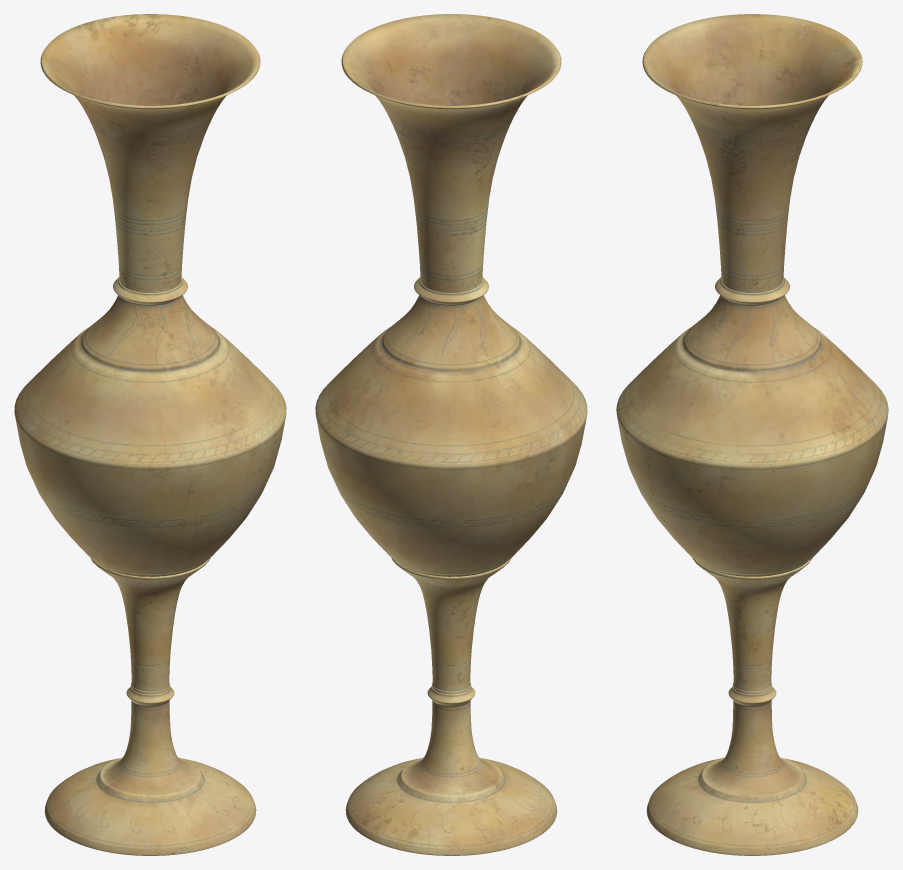
File: brass_vase_01.glb
The picture shows the model from 3 angles, left to right: view 1: azimuth 30°, elevation 25°; view 2: azimuth 150°, elevation 25°; view 3: azimuth 270°, elevation 25°; orthographic projection.
Visible parts, largest first — view 1: brass_vase_01; view 2: brass_vase_01; view 3: brass_vase_01.
Boxes of the visible parts, box(x1,y1,x2,y2) form: brass_vase_01: box(14, 14, 286, 855); brass_vase_01: box(315, 14, 587, 855); brass_vase_01: box(616, 14, 888, 855).
Size of the model in its own units: 0.2273 by 0.6925 by 0.2273.
Materials: 1 (1 with a texture image).
